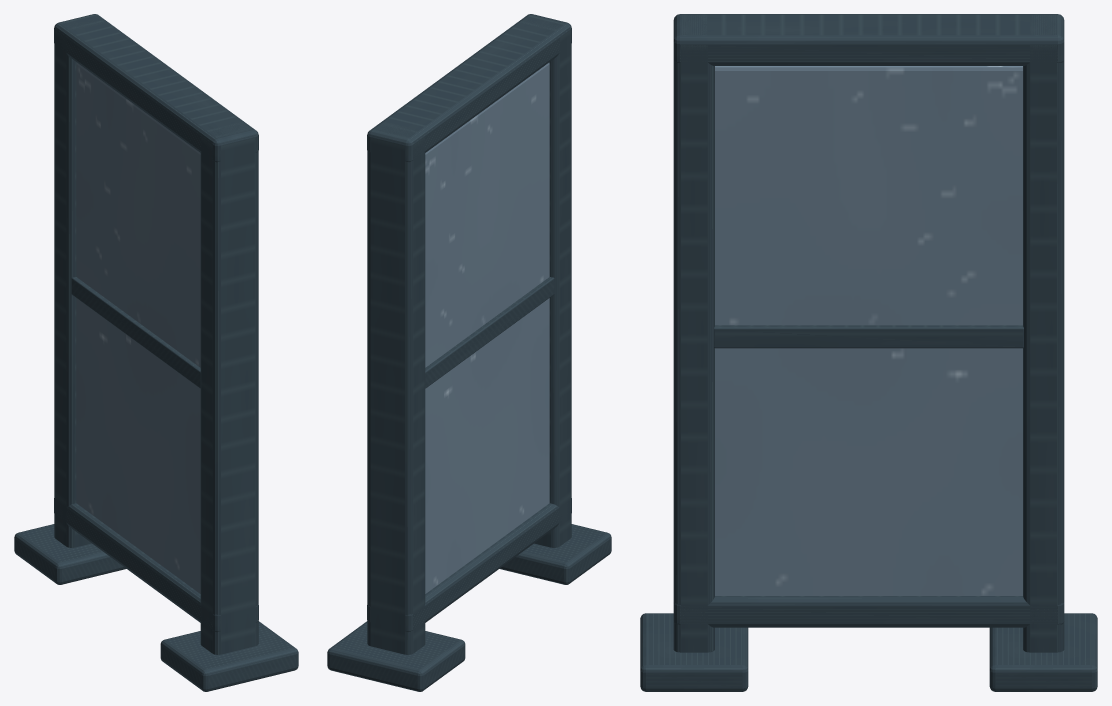
The model's file is SM_RangeLanePartition.glb.
3 renders of one model, left to right at view 1: azimuth 30°, elevation 25°; view 2: azimuth 150°, elevation 25°; view 3: azimuth 270°, elevation 25°, orthographic. The views are drawn at different scales.
Visible parts, largest first — view 1: SM_RangeLanePartition; view 2: SM_RangeLanePartition; view 3: SM_RangeLanePartition.
Boxes of the visible parts, x1,y1,x2,y2 form: SM_RangeLanePartition: [14, 14, 298, 691]; SM_RangeLanePartition: [327, 14, 611, 691]; SM_RangeLanePartition: [640, 14, 1097, 691].
Bounding box in the file's own units: 0.32 × 1.7 × 1.1.
Materials: 1 (1 with a texture image).
